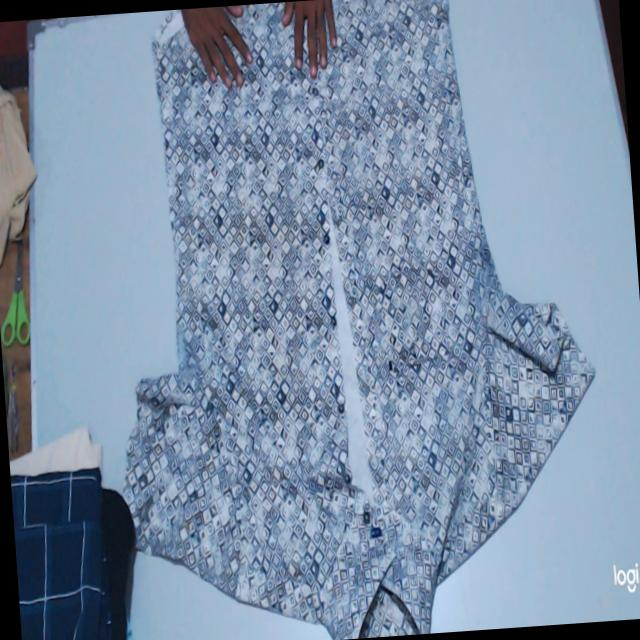new-garment: (124, 0, 594, 639)
